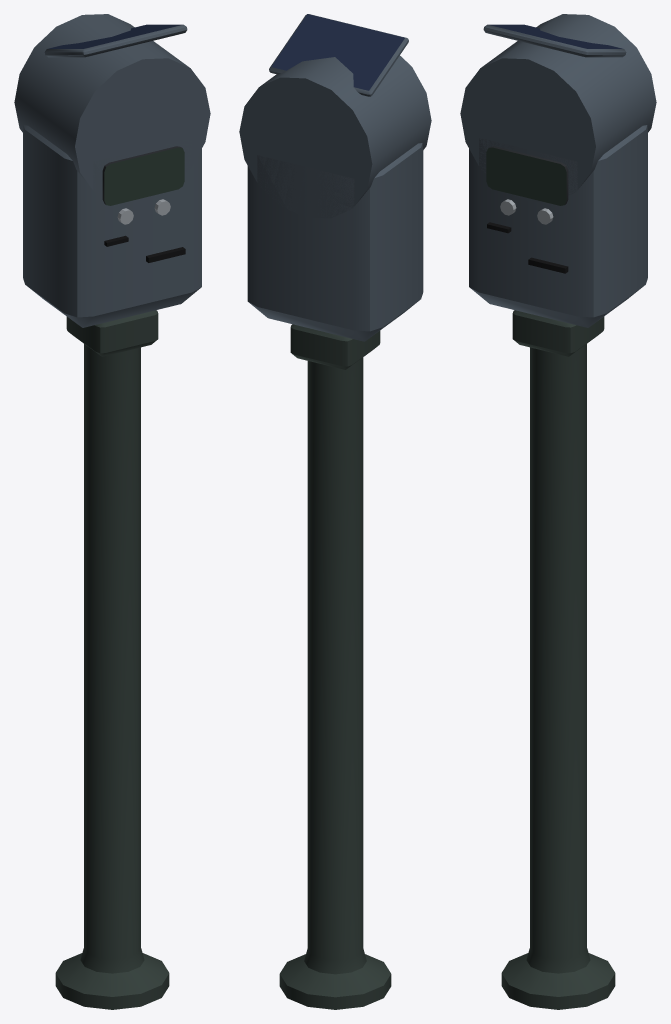
File: ParkingMeter.fbx
3 views of the same model, side by side, from view 1: azimuth 30°, elevation 25°; view 2: azimuth 150°, elevation 25°; view 3: azimuth 330°, elevation 25° (orthographic). The views are drawn at different scales.
Visible parts, largest first — view 1: ParkingMeter_Mesh; view 2: ParkingMeter_Mesh; view 3: ParkingMeter_Mesh.
Part boxes in pixels (x1,y1,x2,y2): ParkingMeter_Mesh: (14, 14, 210, 1009); ParkingMeter_Mesh: (239, 14, 431, 1009); ParkingMeter_Mesh: (460, 14, 656, 1009).
Bounding box in the file's own units: 0.22 × 1.49 × 0.178.
